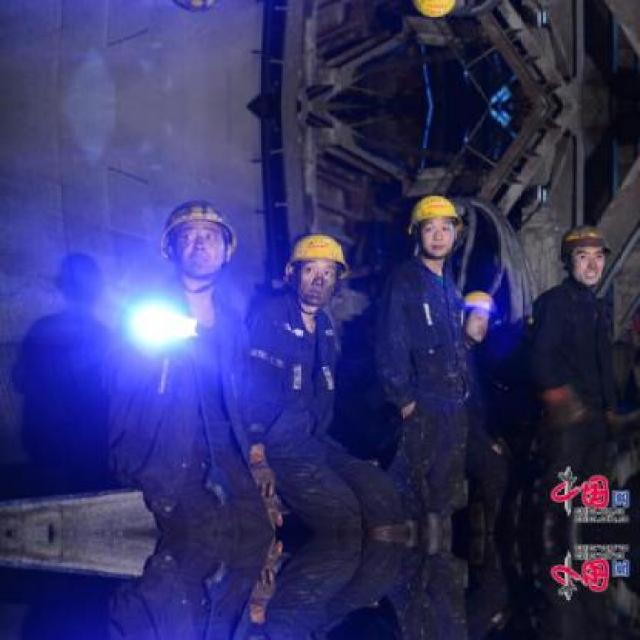helmet: (152, 193, 236, 296), (286, 226, 352, 309), (406, 188, 466, 258), (562, 220, 610, 280), (461, 289, 496, 342), (405, 0, 466, 25)
